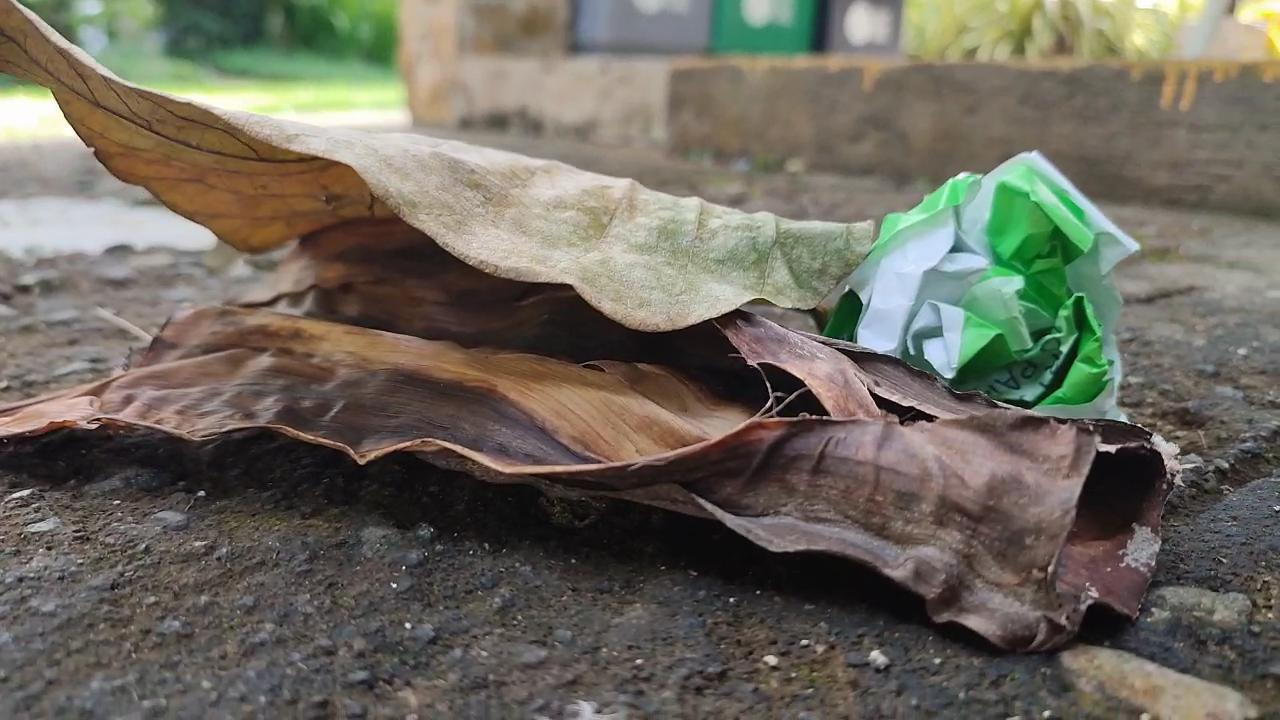Paper: (856, 126, 1143, 435)
